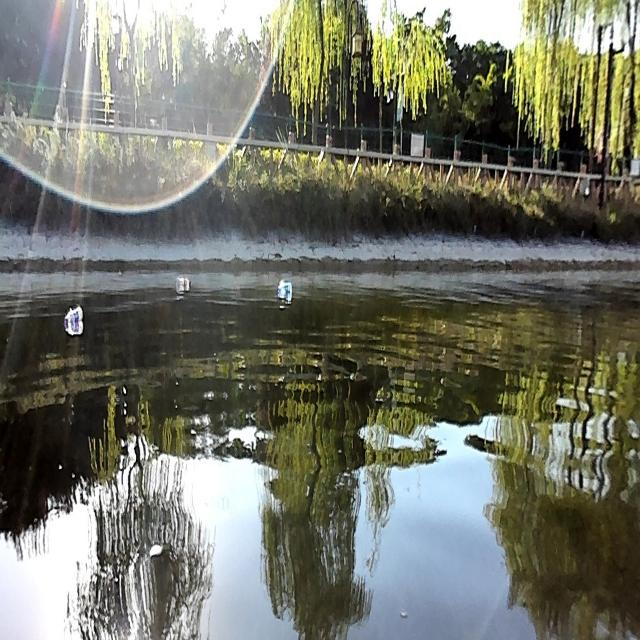bottle: (63, 302, 85, 328), (275, 278, 293, 293), (174, 274, 192, 287)
